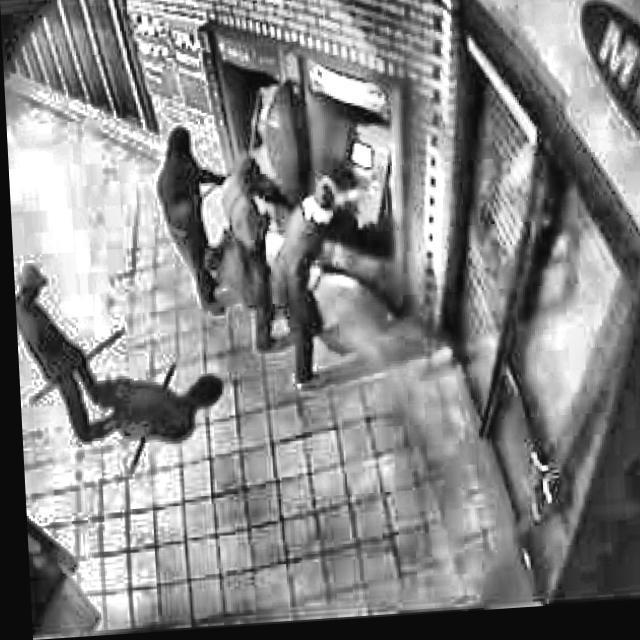Weapon: (14, 98, 416, 516)
